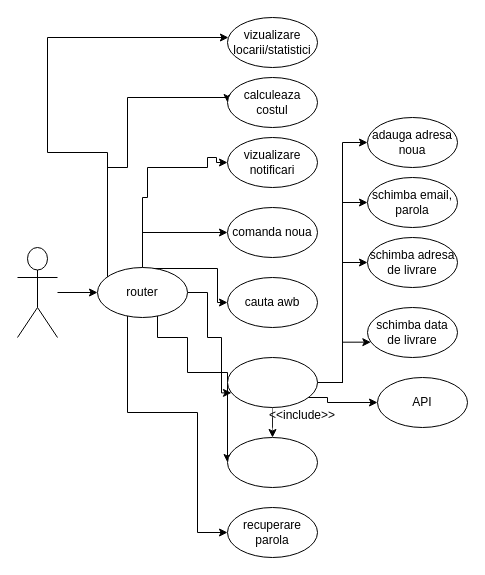
Some shapes in this 485 by 575 pixel diagram are drawn without their labels. Each missing label, with the box of its shape:
Client: (16, 246, 58, 338)
inregistrare: (226, 436, 318, 488)
intra in cont: (226, 356, 318, 408)
